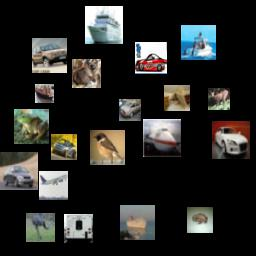airplane: (143, 119, 181, 157), (39, 171, 68, 200)
automobile: (212, 121, 250, 159), (0, 152, 38, 190), (32, 38, 67, 73), (135, 42, 167, 74), (51, 134, 77, 160), (119, 99, 141, 121)
bird: (90, 130, 125, 165), (26, 213, 55, 242)
cat: (72, 59, 101, 88)
deer: (208, 88, 230, 110)
dog: (164, 85, 190, 111)
frog: (14, 109, 49, 144), (187, 207, 213, 233)
ship: (85, 6, 123, 44), (181, 25, 216, 60), (120, 205, 155, 240), (35, 84, 54, 103)
truck: (64, 214, 93, 243)
